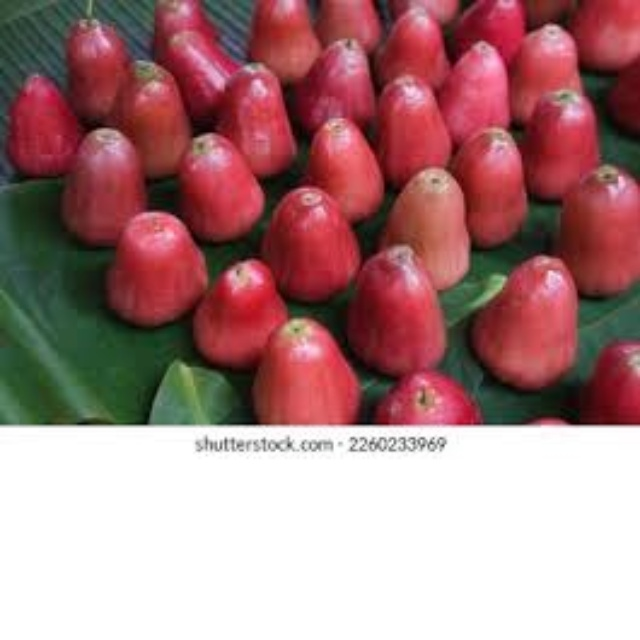xoai: (472, 257, 587, 390), (257, 181, 373, 303), (378, 171, 493, 292), (346, 246, 455, 371), (93, 209, 209, 323), (553, 154, 640, 297), (254, 318, 358, 429), (59, 126, 158, 242), (215, 61, 303, 176), (113, 53, 193, 179), (451, 134, 540, 246), (306, 118, 392, 229), (201, 262, 291, 368), (530, 90, 602, 210), (177, 138, 262, 239), (444, 34, 520, 141), (8, 70, 84, 177), (375, 75, 455, 176), (62, 18, 138, 121), (509, 28, 586, 117), (294, 41, 370, 124), (377, 6, 457, 81), (238, 2, 310, 72)
